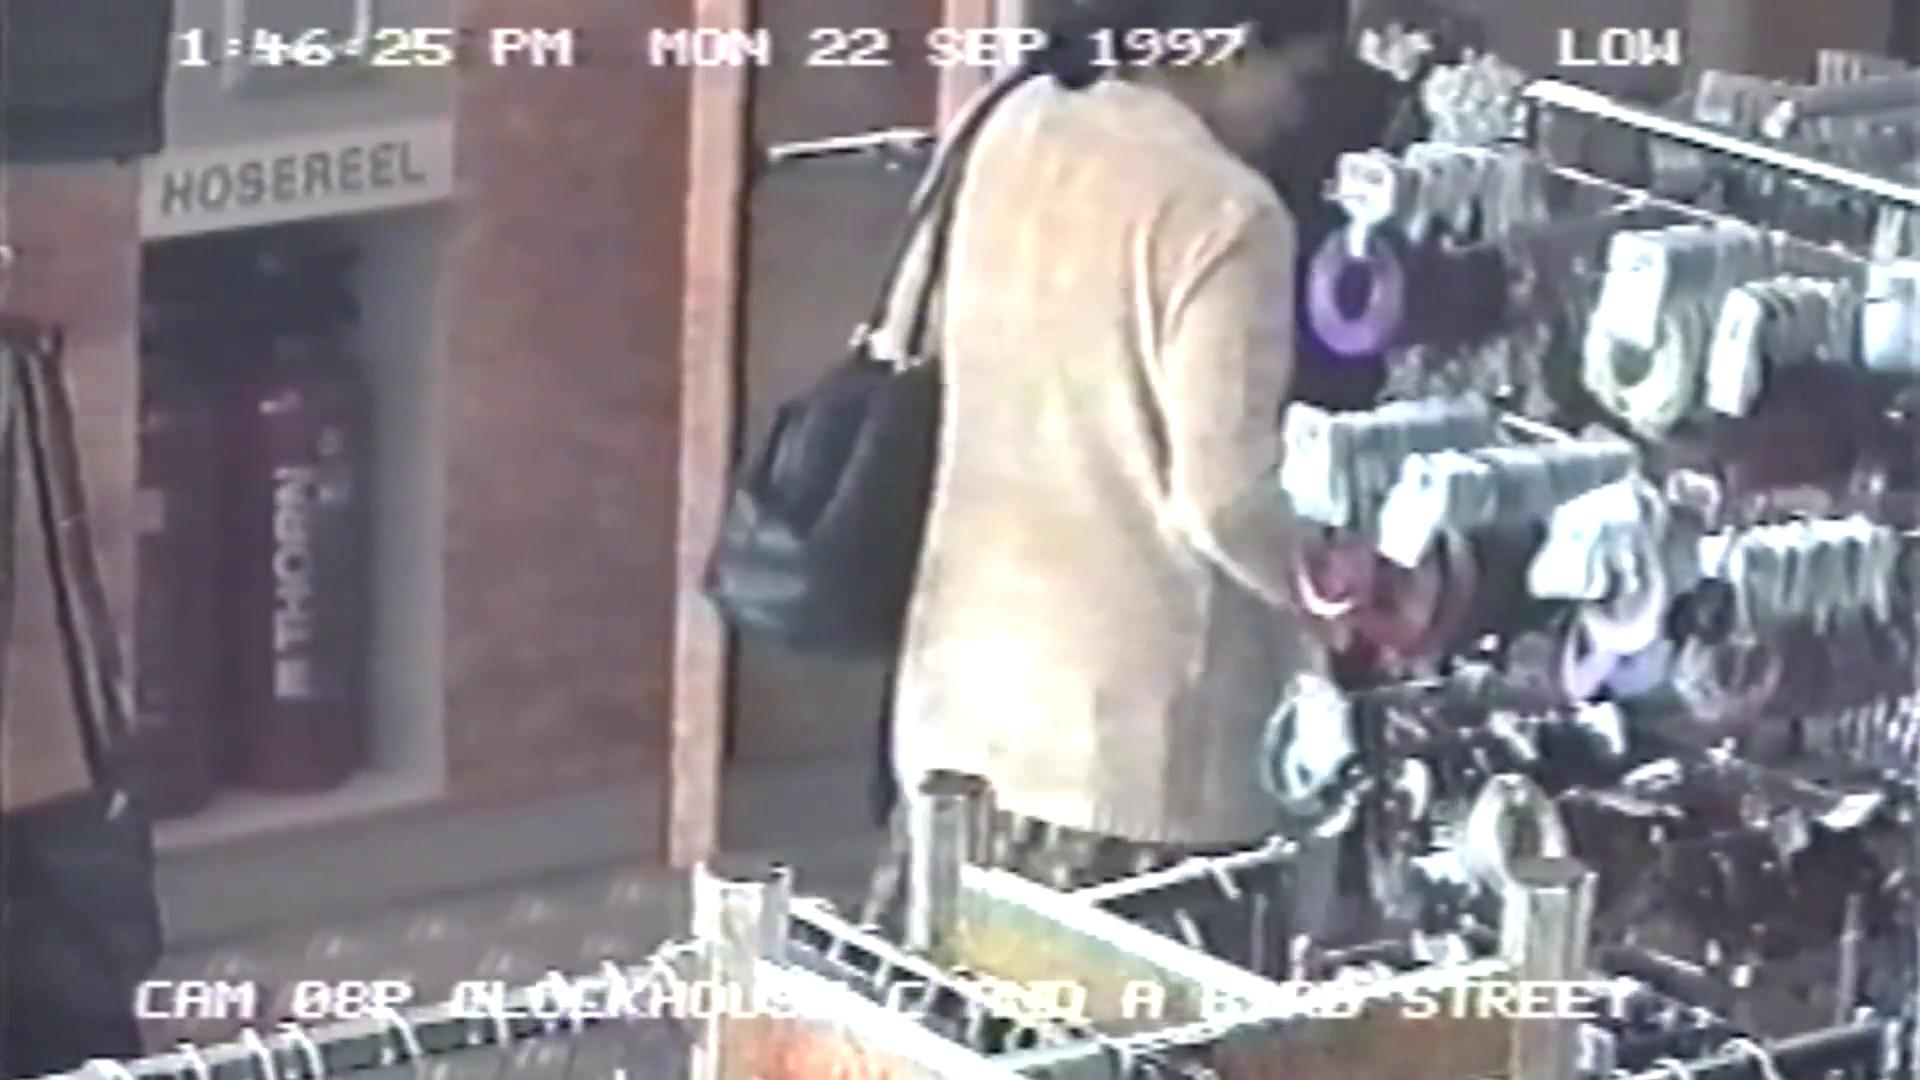Customer-Bagpack: (742, 359, 969, 650)
Regular: (756, 12, 1577, 1080)
